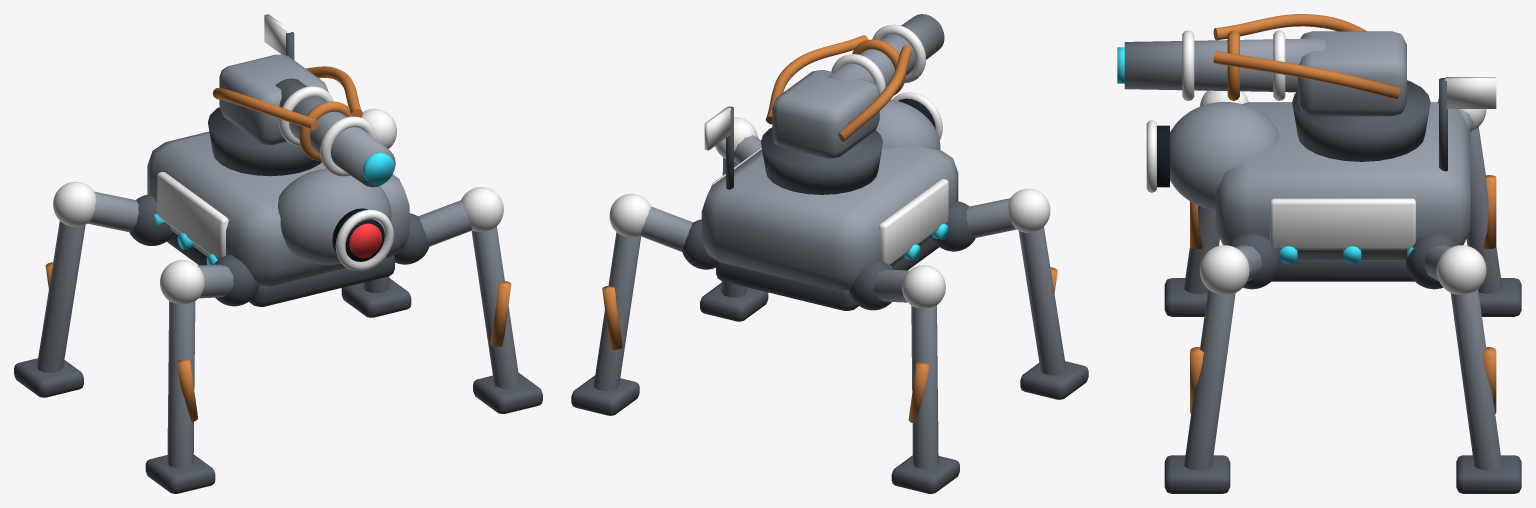
Rendered from maquina_asedio.glb.
3 views of the same model, side by side, from view 1: azimuth 30°, elevation 25°; view 2: azimuth 150°, elevation 25°; view 3: azimuth 270°, elevation 25° (orthographic). The views are drawn at different scales.
Visible parts, largest first — view 1: Maquina_asedio_fijo; view 2: Maquina_asedio_fijo; view 3: Maquina_asedio_fijo.
Boxes of the visible parts, x1,y1,x2,y2 form: Maquina_asedio_fijo: [14, 14, 542, 493]; Maquina_asedio_fijo: [571, 14, 1088, 493]; Maquina_asedio_fijo: [1117, 14, 1521, 493].
Bounding box in the file's own units: 2.62 × 2.19 × 2.22.
2 materials, 2 textured.
